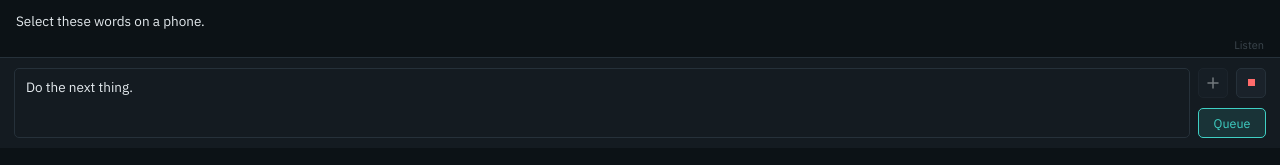
it: TranscriptPane prompt submission › prevents duplicate submissions and reports the daemon queue position
What coordinates should you click on to do the following:
click the button "Queue"
I would click on:
 (1232, 123)
Its box is top-left (1198, 108), bottom-right (1266, 138).
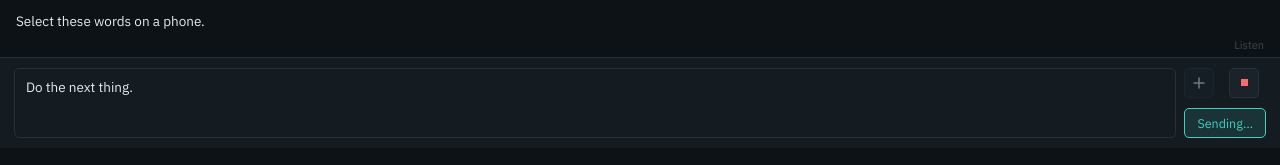
What coordinates should you click on to do the following:
click the button named "Queue"
I would click on:
 (1225, 123)
Its box is top-left (1184, 108), bottom-right (1266, 138).
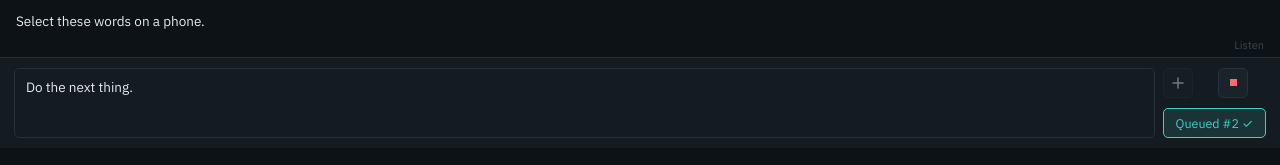
Now the button "Queued #2 ✓" is shown, box top-left (1163, 108), bottom-right (1266, 138)
